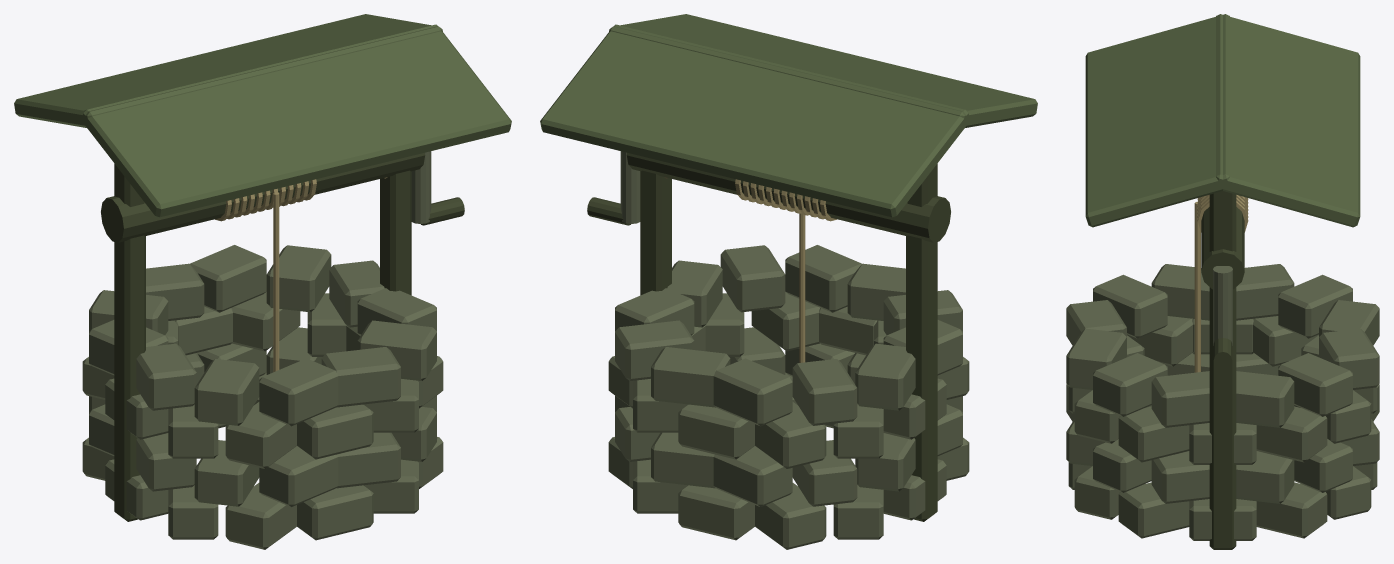
File: well.obj
The picture shows the model from 3 angles, left to right: view 1: azimuth 30°, elevation 25°; view 2: azimuth 150°, elevation 25°; view 3: azimuth 270°, elevation 25°; orthographic projection. The views are drawn at different scales.
Visible parts, largest first — view 1: well; view 2: well; view 3: well.
Boxes of the visible parts, x1=… form: well: x1=14, y1=14, x2=511, y2=549; well: x1=540, y1=14, x2=1037, y2=549; well: x1=1066, y1=14, x2=1379, y2=549.
Size of the model in its own units: 2.42 by 2.57 by 1.87.
1 material, 1 textured.
